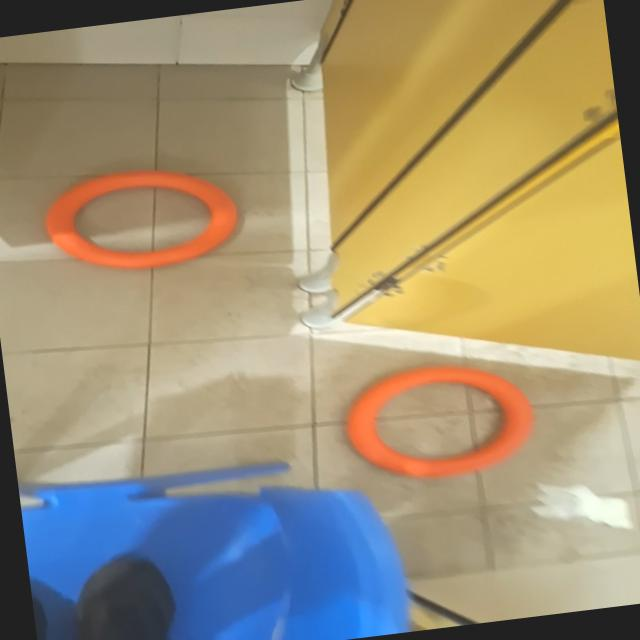note: (337, 352, 541, 488), (38, 157, 245, 280)
